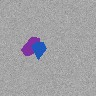hold: (22, 37, 41, 56)
volume: (32, 41, 47, 60)
